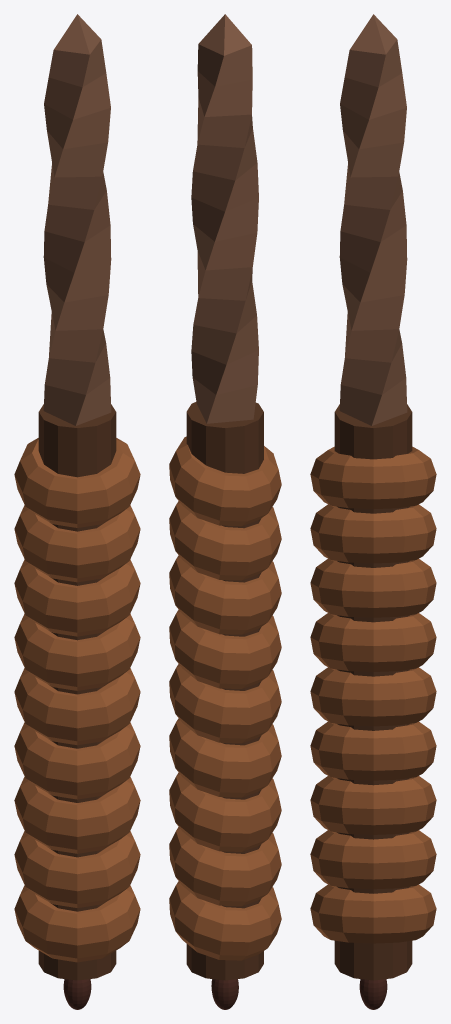
Rendered from Wand 456.glb.
3 views of the same model, side by side, from view 1: azimuth 90°, elevation 25°; view 2: azimuth 150°, elevation 25°; view 3: azimuth 270°, elevation 25° (orthographic).
Visible parts, largest first — view 1: GeneratedWand; view 2: GeneratedWand; view 3: GeneratedWand.
Part boxes in pixels (x1,y1,x2,y2): GeneratedWand: (14,14,140,1009); GeneratedWand: (169,14,281,1009); GeneratedWand: (310,14,436,1009).
Size of the model in its own units: 0.0497 by 0.5057 by 0.0581.
